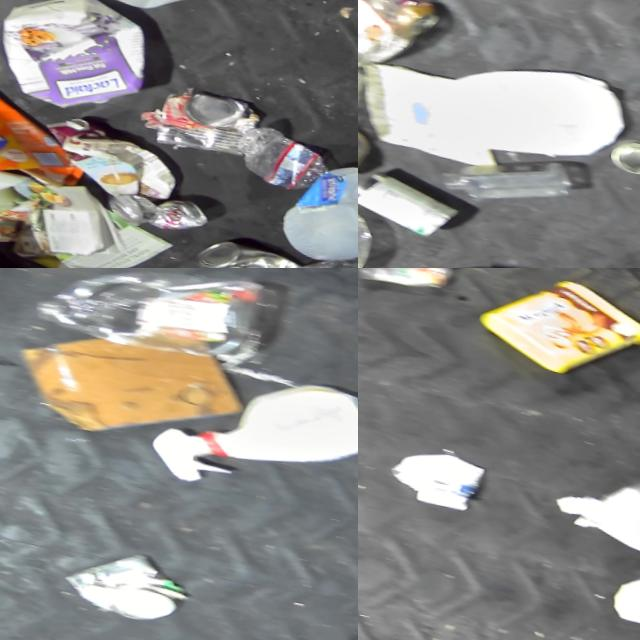can: (57, 540, 212, 639), (156, 90, 256, 163), (111, 186, 231, 244), (358, 268, 468, 297), (193, 242, 302, 268), (610, 134, 640, 188)
milk_jug: (410, 46, 635, 179), (282, 149, 358, 268), (92, 0, 250, 26)
non_white_jug: (16, 0, 159, 119)
plastic_bottle: (24, 268, 265, 369), (233, 123, 338, 196), (358, 169, 396, 268)
